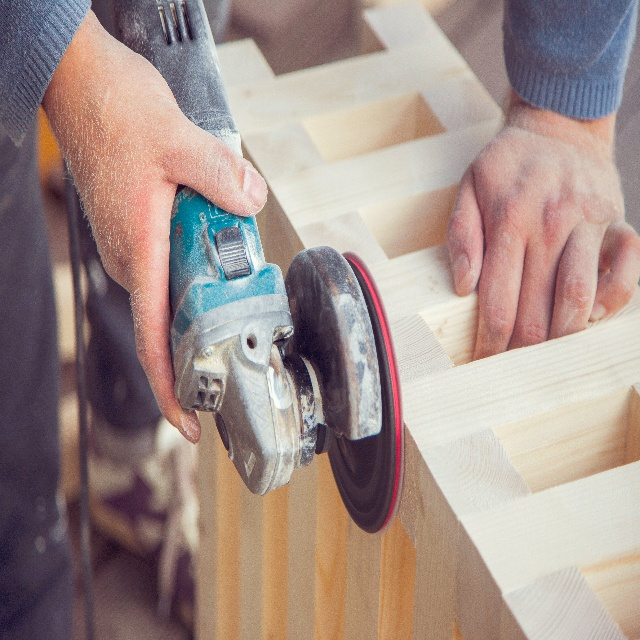Sin_guantes: (41, 23, 267, 446), (446, 100, 640, 364)
